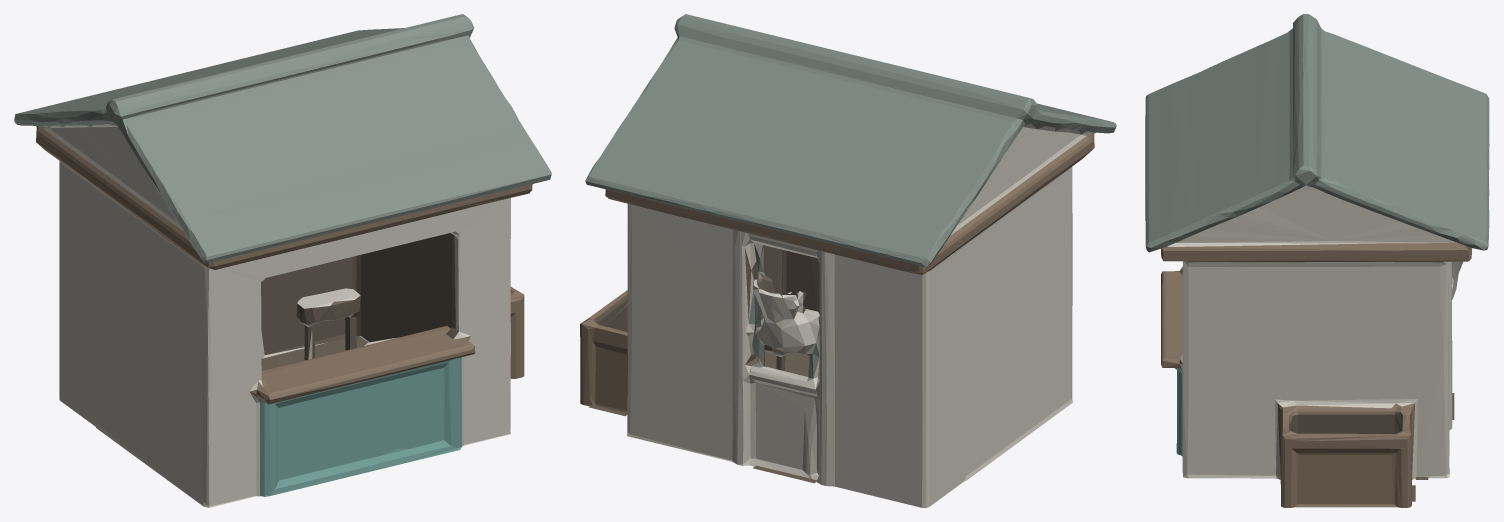
3 renders of one model, left to right at view 1: azimuth 30°, elevation 25°; view 2: azimuth 150°, elevation 25°; view 3: azimuth 270°, elevation 25°, orthographic. The views are drawn at different scales.
Visible parts, largest first — view 1: geometry_0; view 2: geometry_0; view 3: geometry_0.
Boxes of the visible parts, x1,y1,x2,y2 form: geometry_0: [14, 14, 551, 507]; geometry_0: [580, 14, 1116, 507]; geometry_0: [1145, 14, 1489, 507].
Bounding box in the file's own units: 0.9946 × 0.8582 × 0.8314.
